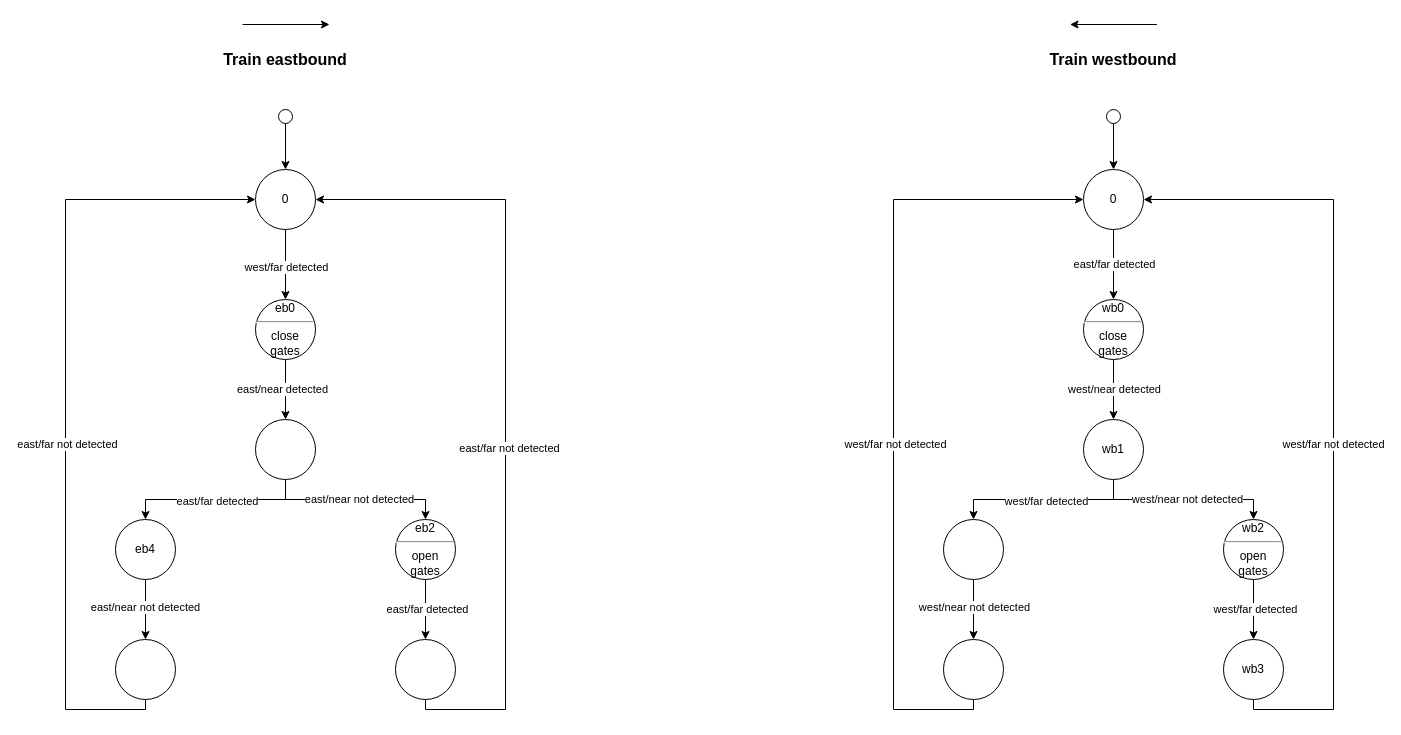
The diagram is 1401 pixels wide and 735 high, and some of its shapes have lost their labels. Here are the shapes that lost their labels. From the top down, the centre of each, then its label:
At point 285,449: "eb1".
At point 973,549: "wb4".
At point 145,669: "eb5 open gates".
At point 425,669: "eb3".
At point 973,669: "wb5 open gates".
